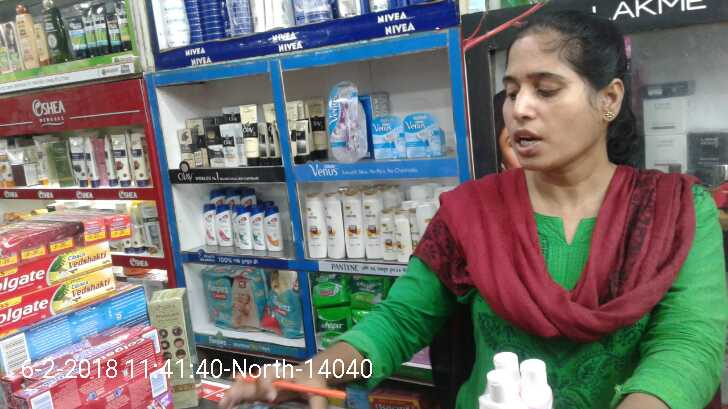venus: (328, 82, 370, 159), (404, 114, 442, 161), (376, 116, 404, 161)
